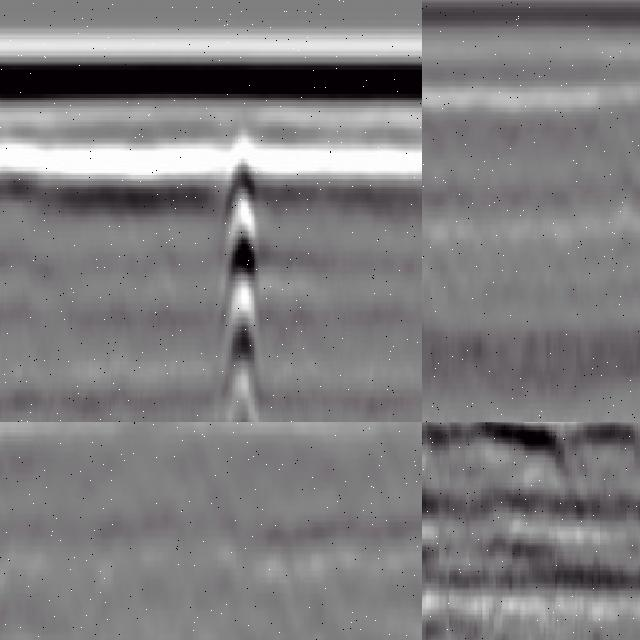crack: (223, 127, 259, 423), (423, 72, 443, 423)
loose: (423, 423, 640, 518)
